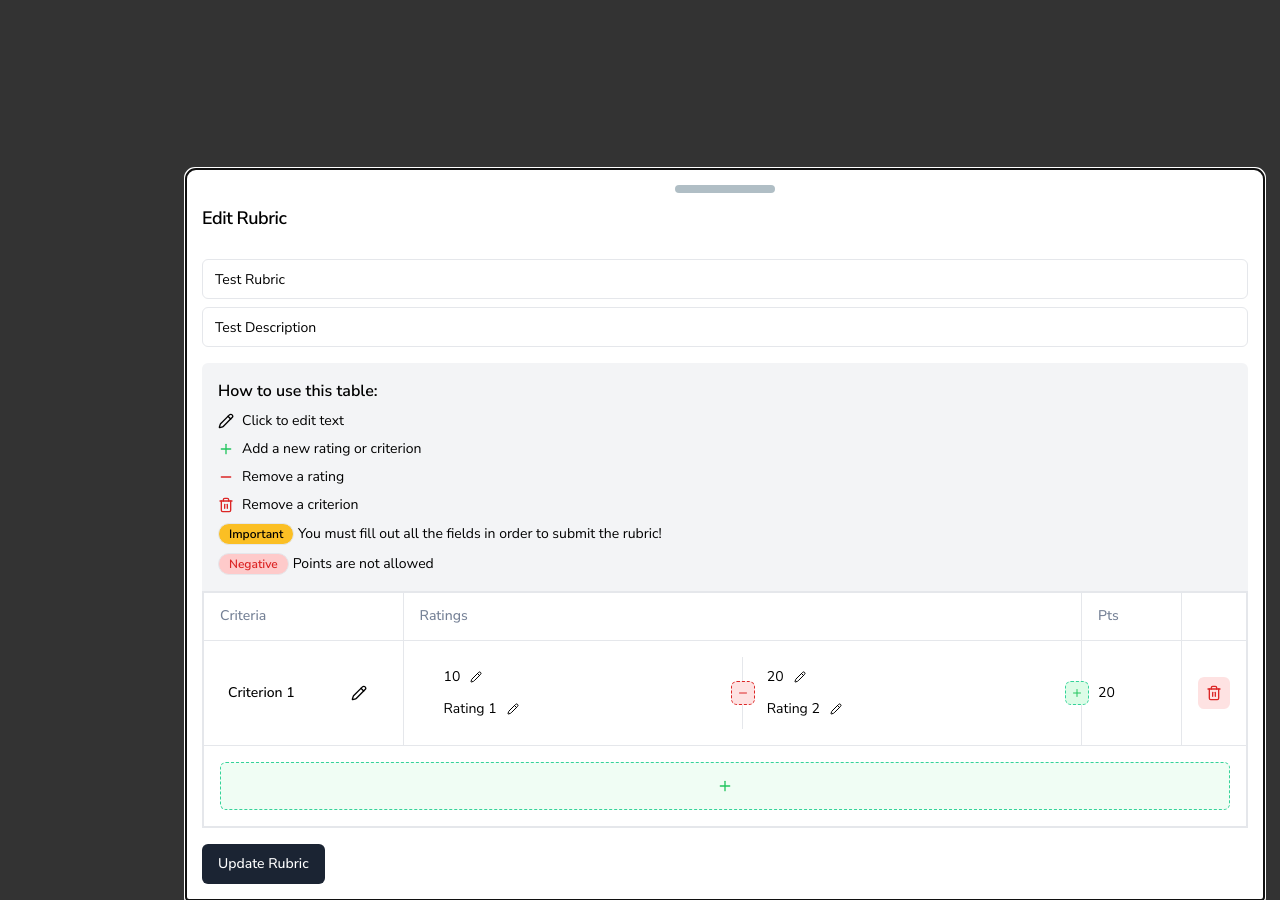
Test case: EditRubric Component › adds and removes criteria correctly
Click the button with test id "add-criterion": (725, 785) [220, 761, 1230, 809]
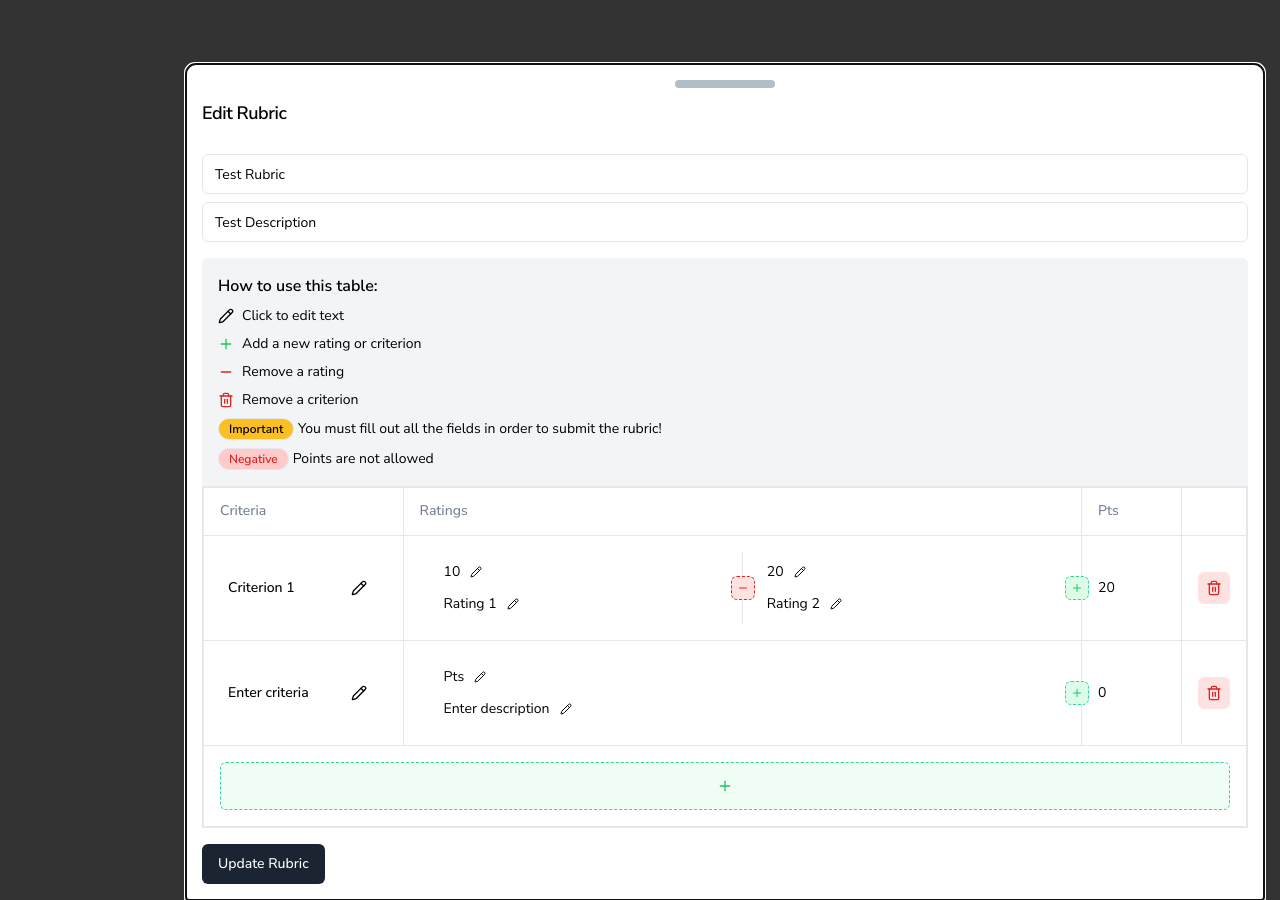
Now the text "Enter criteria" is shown once, box [228, 682, 309, 702]
Click the button with test id "^remove-criterion-": (1214, 692) [1198, 676, 1230, 708]
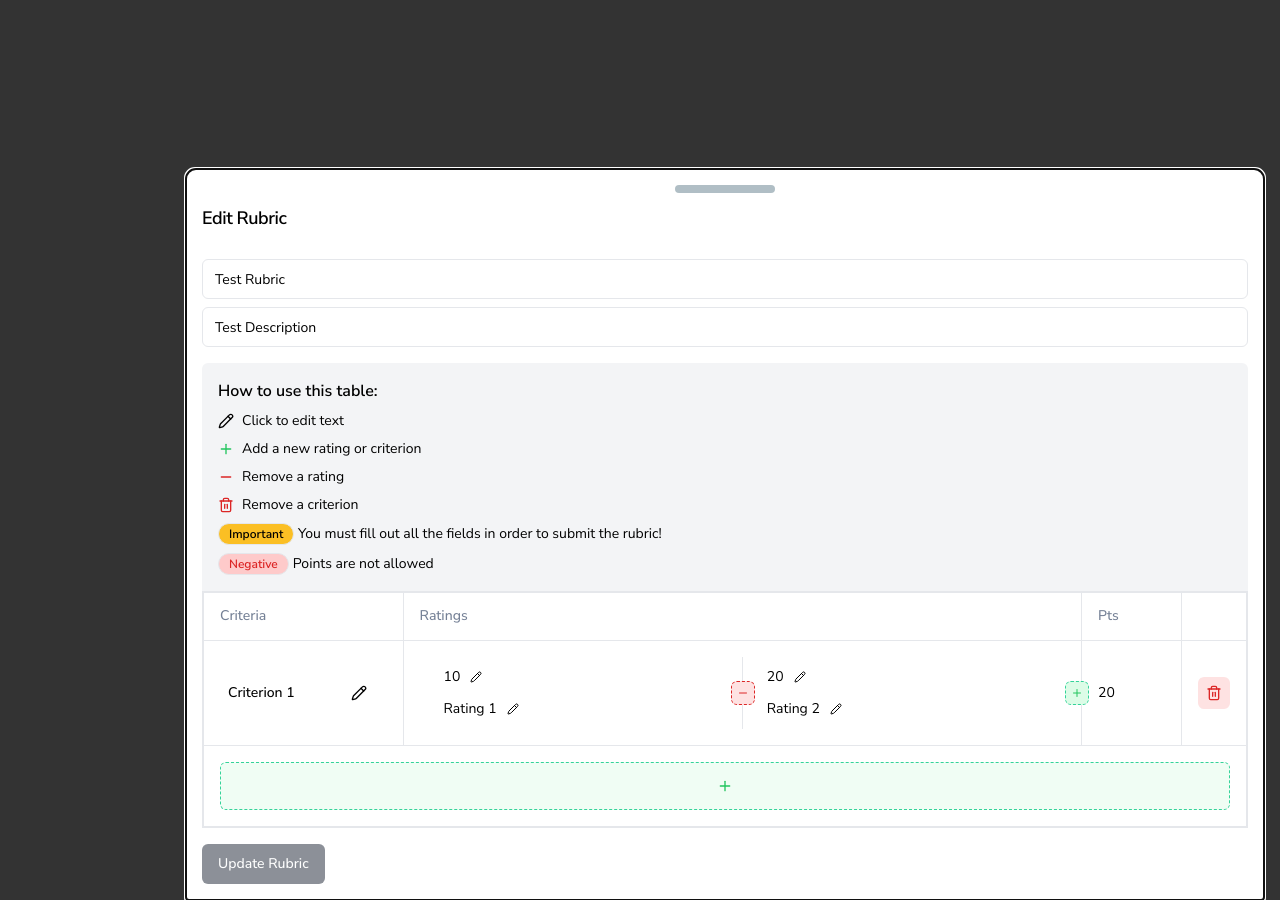
Now the text "Enter criteria" is gone
